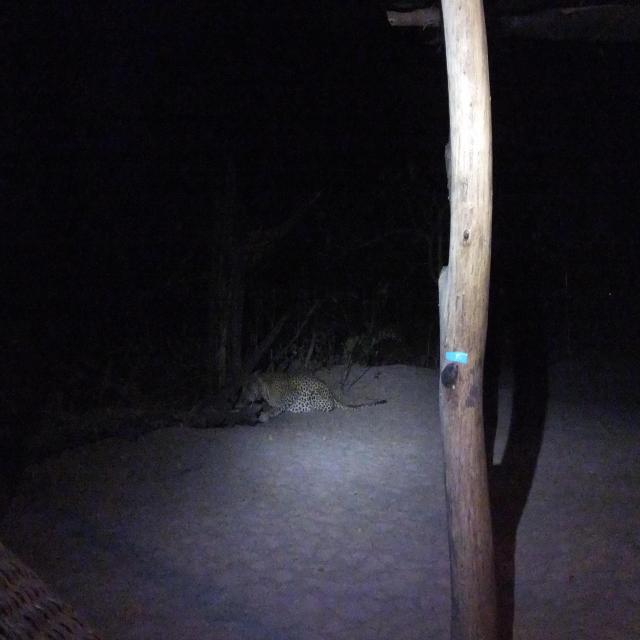Leopard: (243, 378, 369, 431)
